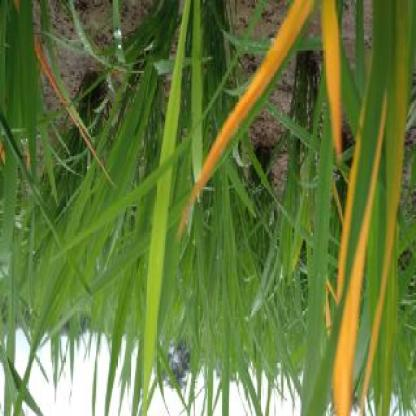Tungro: (326, 86, 381, 416)
